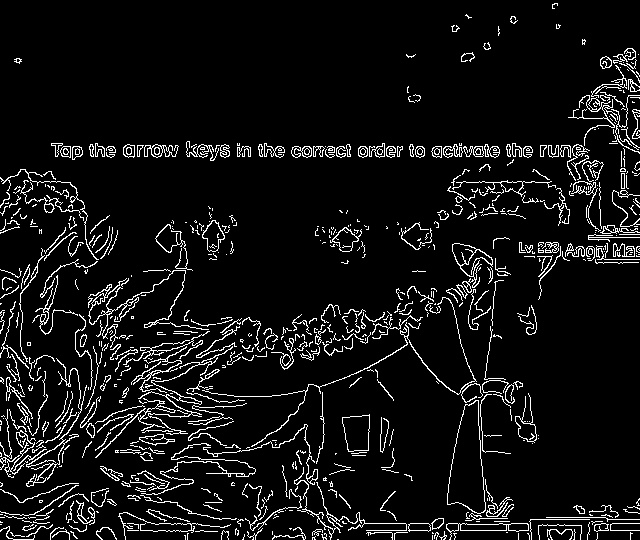left: (149, 221, 190, 261), (397, 217, 435, 254)
up: (197, 216, 233, 258), (327, 221, 362, 256)
